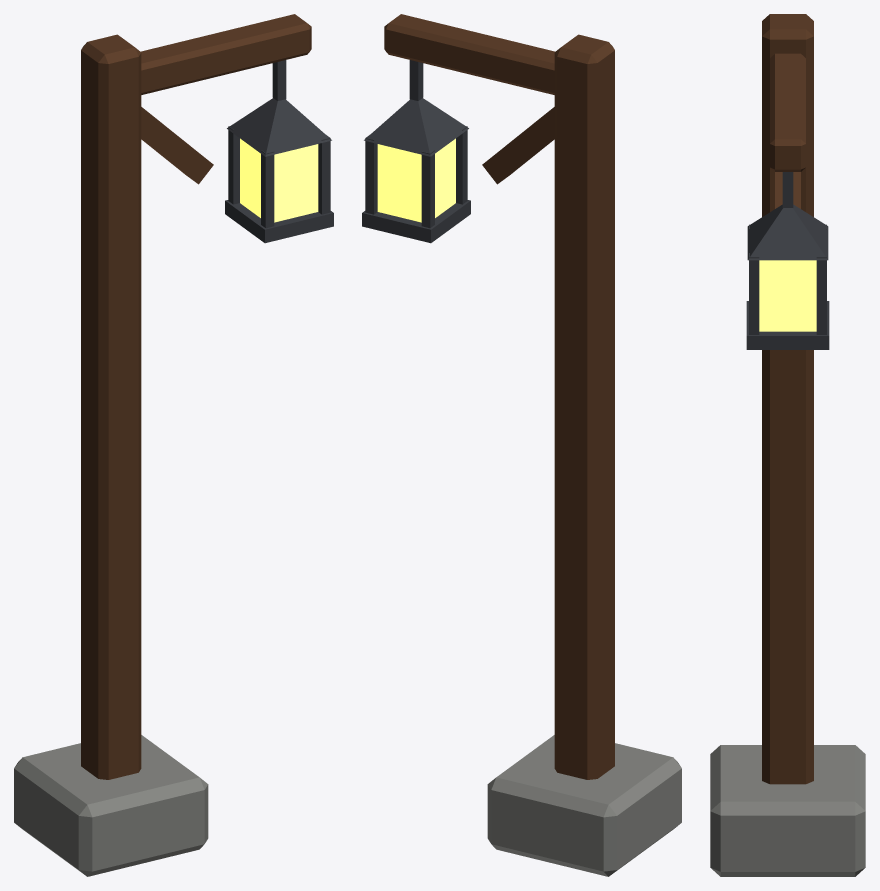
Rendered from Prop_LanternPost.fbx.
3 renders of one model, left to right at view 1: azimuth 30°, elevation 25°; view 2: azimuth 150°, elevation 25°; view 3: azimuth 270°, elevation 25°, orthographic. The views are drawn at different scales.
Visible parts, largest first — view 1: Prop_LanternPost; view 2: Prop_LanternPost; view 3: Prop_LanternPost.
Part boxes in pixels (left/top/right/bottom): Prop_LanternPost: left=14, top=14, right=333, bottom=876; Prop_LanternPost: left=362, top=14, right=681, bottom=876; Prop_LanternPost: left=710, top=14, right=865, bottom=876.
Size of the model in its own units: 0.62 by 1.76 by 0.3.
